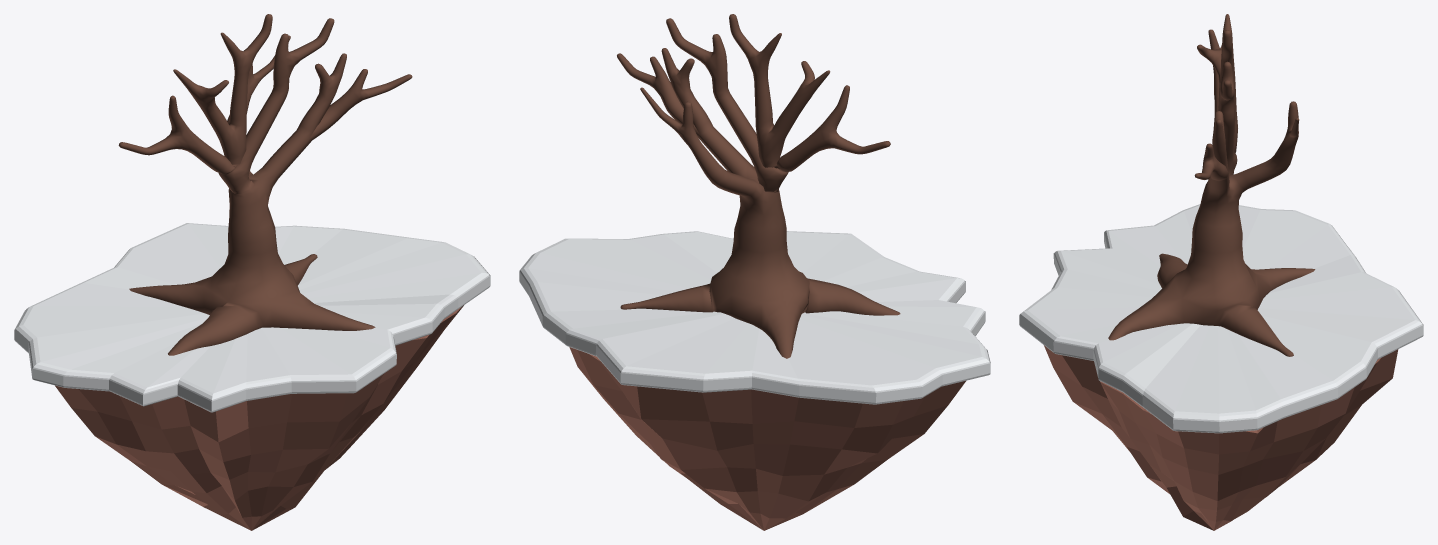
Rendered from island_winter.glb.
The picture shows the model from 3 angles, left to right: view 1: azimuth 30°, elevation 25°; view 2: azimuth 150°, elevation 25°; view 3: azimuth 270°, elevation 25°; orthographic projection.
Parts seen in each view (by area): view 1: Grass, trunk, Rock; view 2: Grass, Rock, trunk; view 3: Grass, Rock, trunk.
Boxes of the visible parts, box(x1,y1,x2,y2) form: Grass: box(14, 223, 490, 412); trunk: box(118, 14, 412, 355); Rock: box(55, 305, 463, 530); Grass: box(519, 231, 990, 404); Rock: box(569, 347, 965, 530); trunk: box(617, 14, 900, 358); Grass: box(1019, 204, 1423, 433); Rock: box(1044, 345, 1398, 530); trunk: box(1108, 14, 1315, 356).
Bounding box in the file's own units: 4.82 × 5.23 × 3.74.
